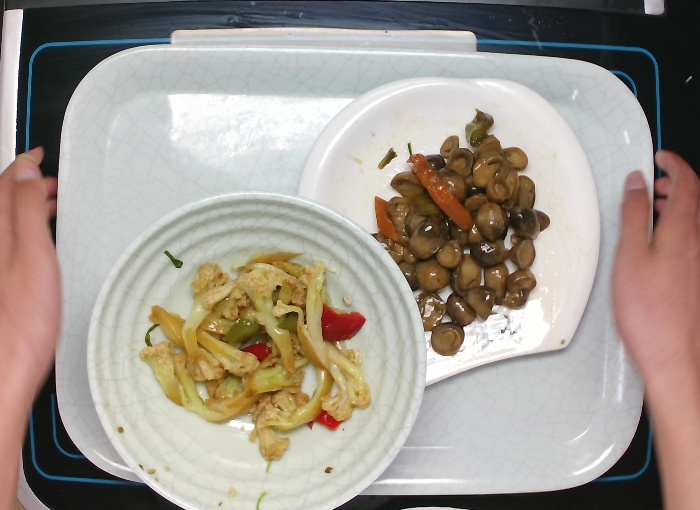JYsf-Da_Tang_Wan: (84, 188, 429, 510)
JYsf-Mian_Pan: (291, 71, 605, 392)
